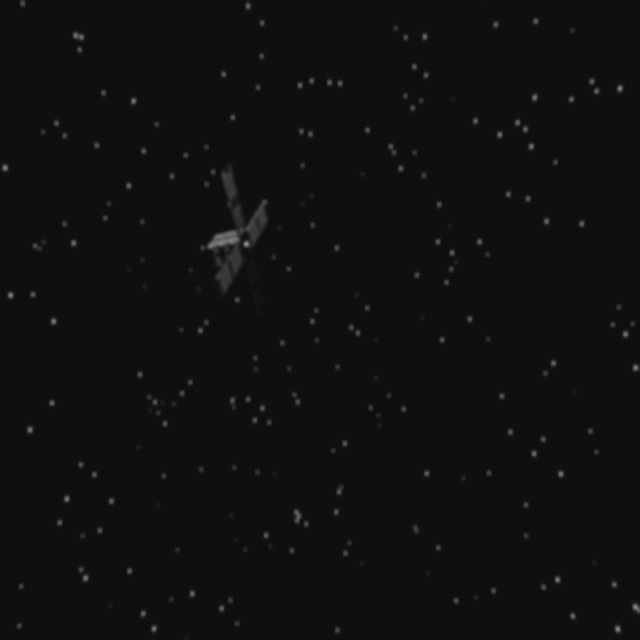medium_debris: (197, 166, 287, 324)
